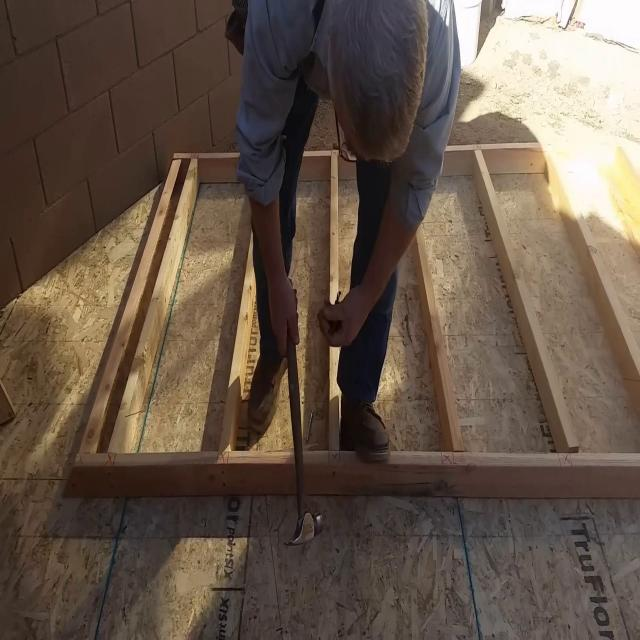hammer: (284, 324, 324, 548)
